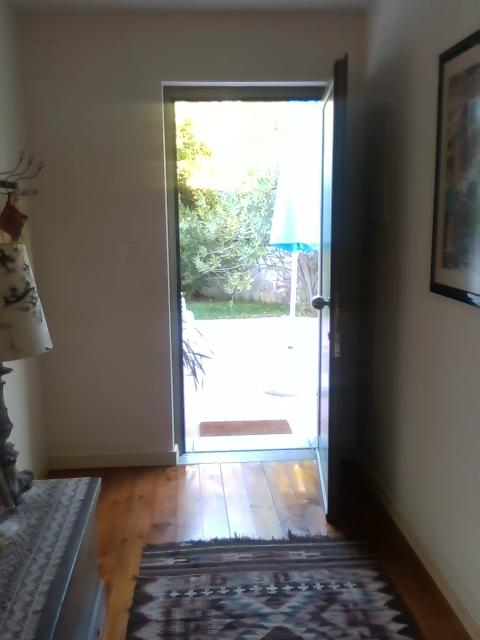open_door: (158, 78, 342, 466)
